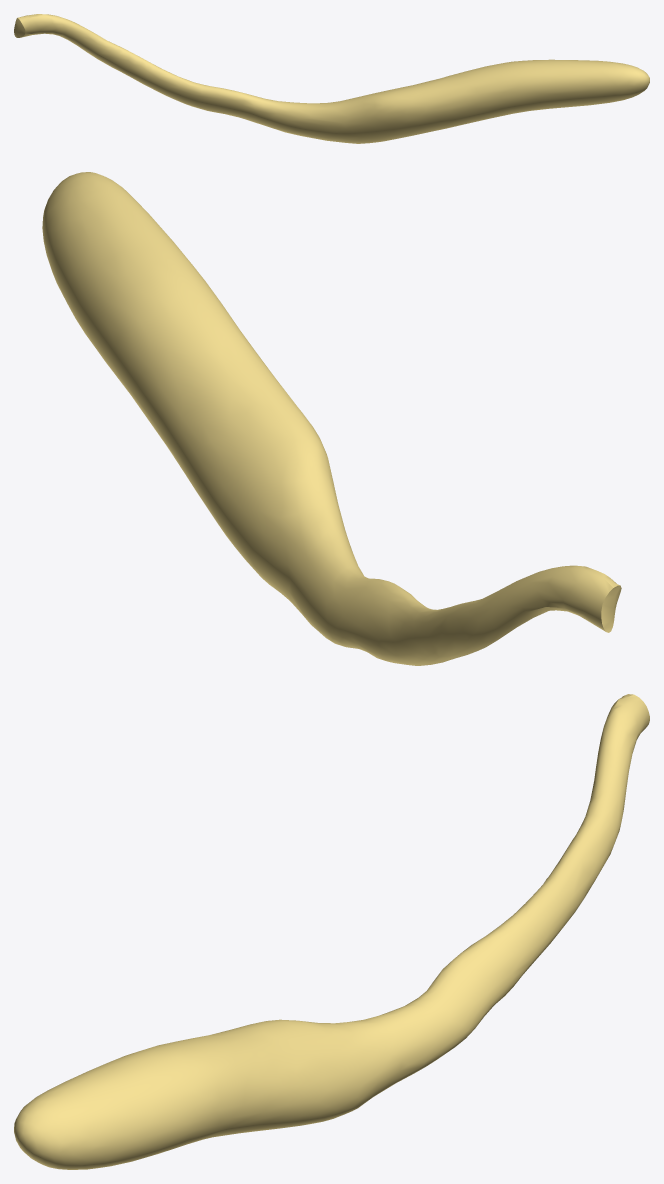
3 views of the same model, one above another, from view 1: azimuth 30°, elevation 25°; view 2: azimuth 150°, elevation 25°; view 3: azimuth 270°, elevation 25° (orthographic). The views are drawn at different scales.
Parts seen in each view (by area): view 1: ZA_1e12a040ef3f3278; view 2: ZA_1e12a040ef3f3278; view 3: ZA_1e12a040ef3f3278.
Part boxes in pixels (<box>): ZA_1e12a040ef3f3278: <box>14,14,649,143</box>; ZA_1e12a040ef3f3278: <box>42,172,621,665</box>; ZA_1e12a040ef3f3278: <box>14,694,649,1169</box>.
Size of the model in its own units: 0.0333 by 0.00868 by 0.0236.
